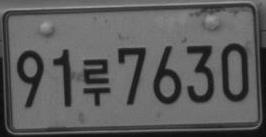0: (221, 42, 249, 102)
1: (49, 48, 78, 107)
3: (186, 44, 214, 103)
6: (152, 45, 182, 104)
7: (117, 46, 146, 106)
9: (16, 49, 45, 107)
루: (82, 58, 111, 106)
